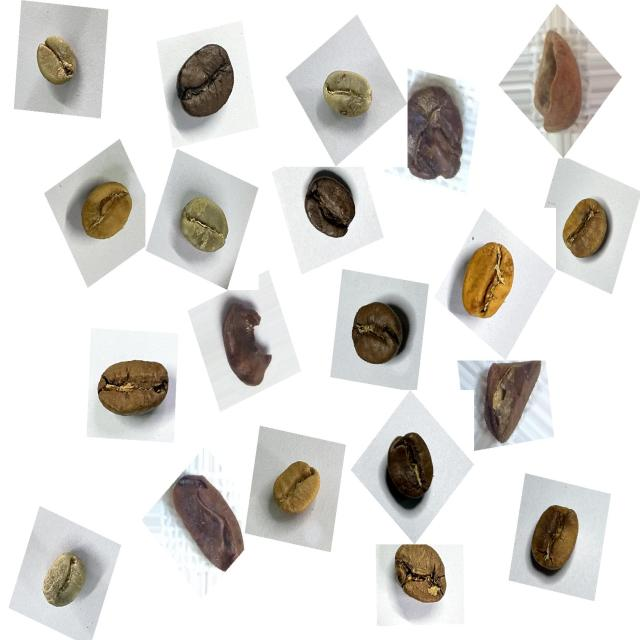bad: (166, 469, 253, 585), (394, 72, 475, 194), (523, 22, 596, 139), (471, 352, 549, 451), (211, 292, 280, 395)
dark: (166, 33, 248, 134), (376, 424, 445, 514), (292, 167, 364, 252)
green: (171, 185, 240, 267), (33, 542, 100, 623), (315, 58, 384, 133), (26, 26, 90, 102)
light: (451, 232, 529, 333), (68, 168, 139, 254), (550, 186, 619, 272), (261, 452, 329, 531)
medium: (87, 341, 175, 432), (520, 491, 593, 585), (340, 289, 414, 378), (387, 534, 460, 618)
